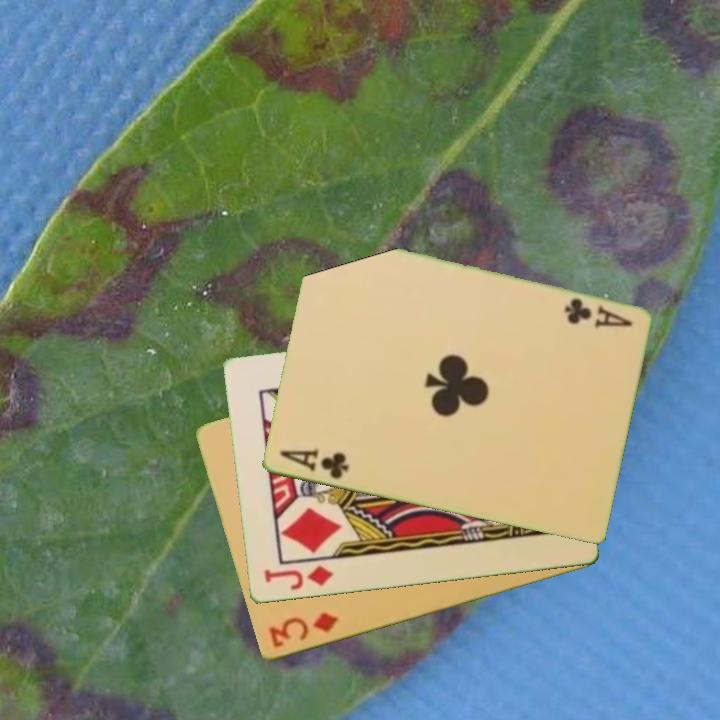3d: (265, 609, 341, 651)
Ac: (275, 446, 351, 483), (560, 295, 635, 331)
Jd: (260, 562, 335, 594)
